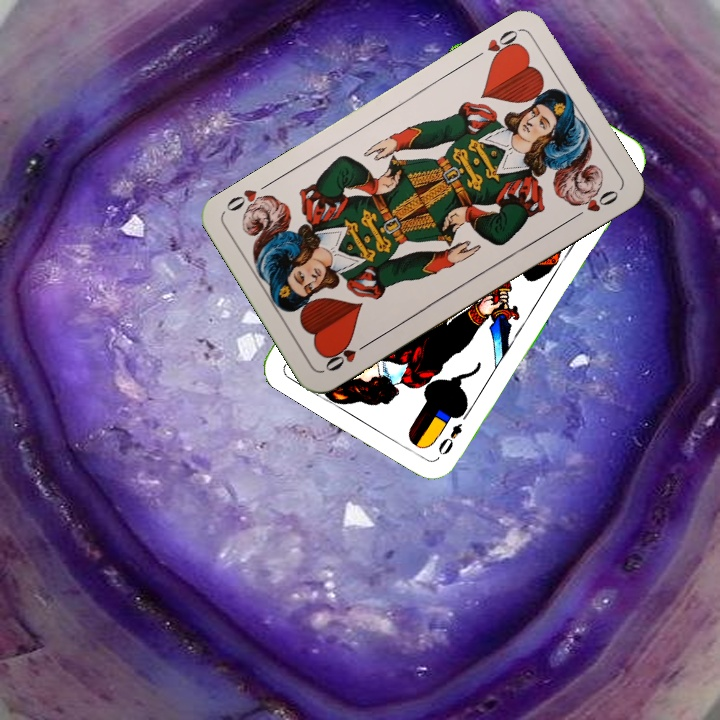EO: (434, 406, 473, 458)
HO: (469, 25, 524, 65), (321, 337, 373, 374)
